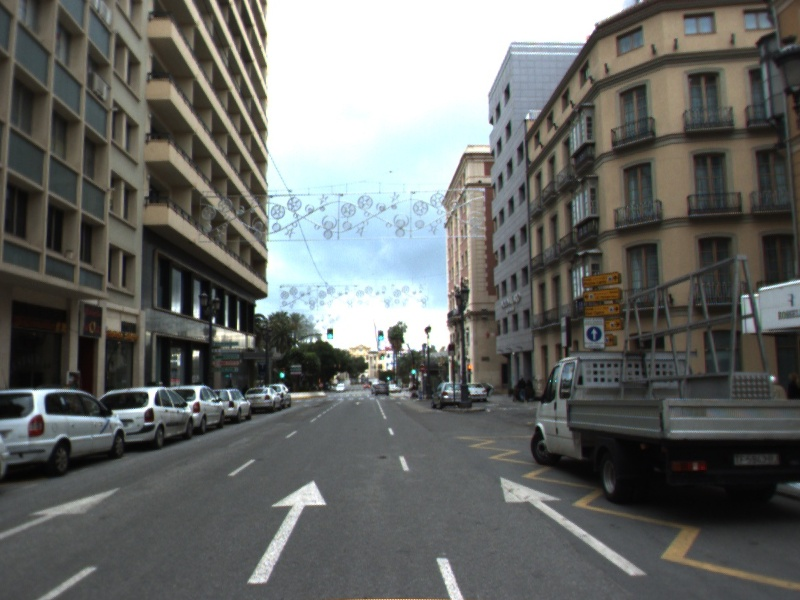STRAIGHT: (494, 472, 654, 579), (241, 477, 331, 587), (1, 484, 126, 547)
